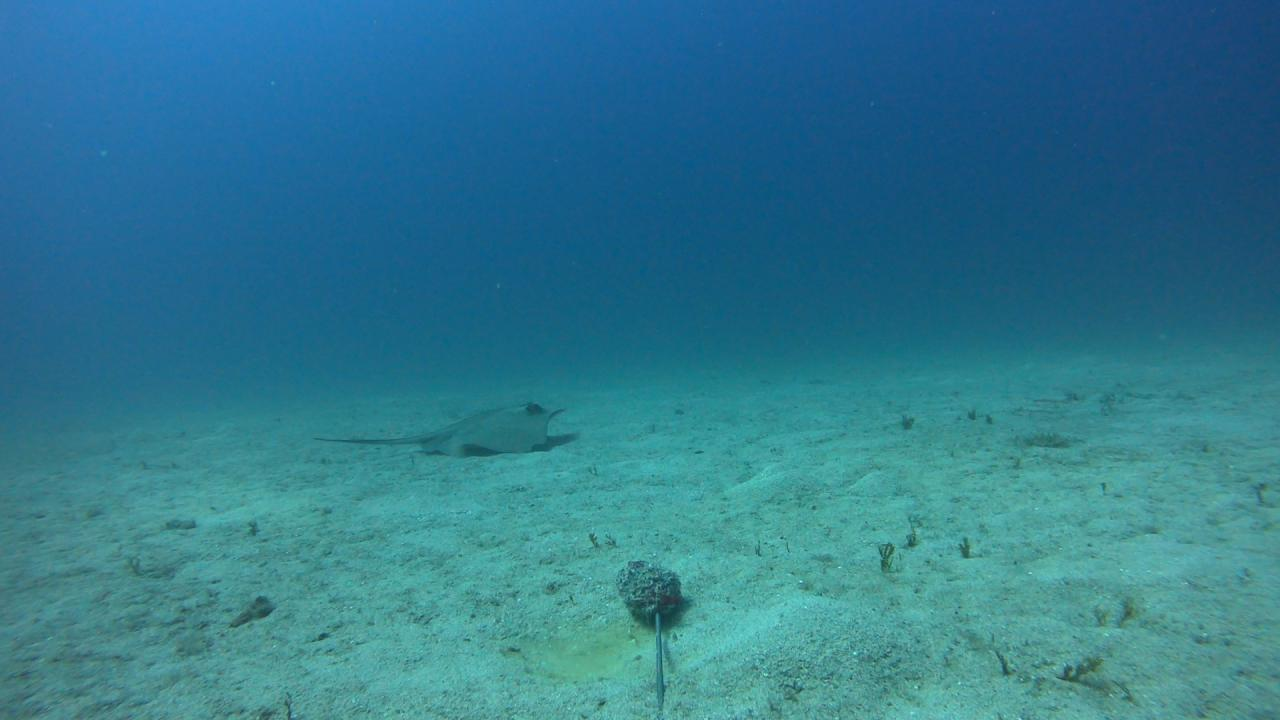dasyatis: (313, 400, 571, 456)
